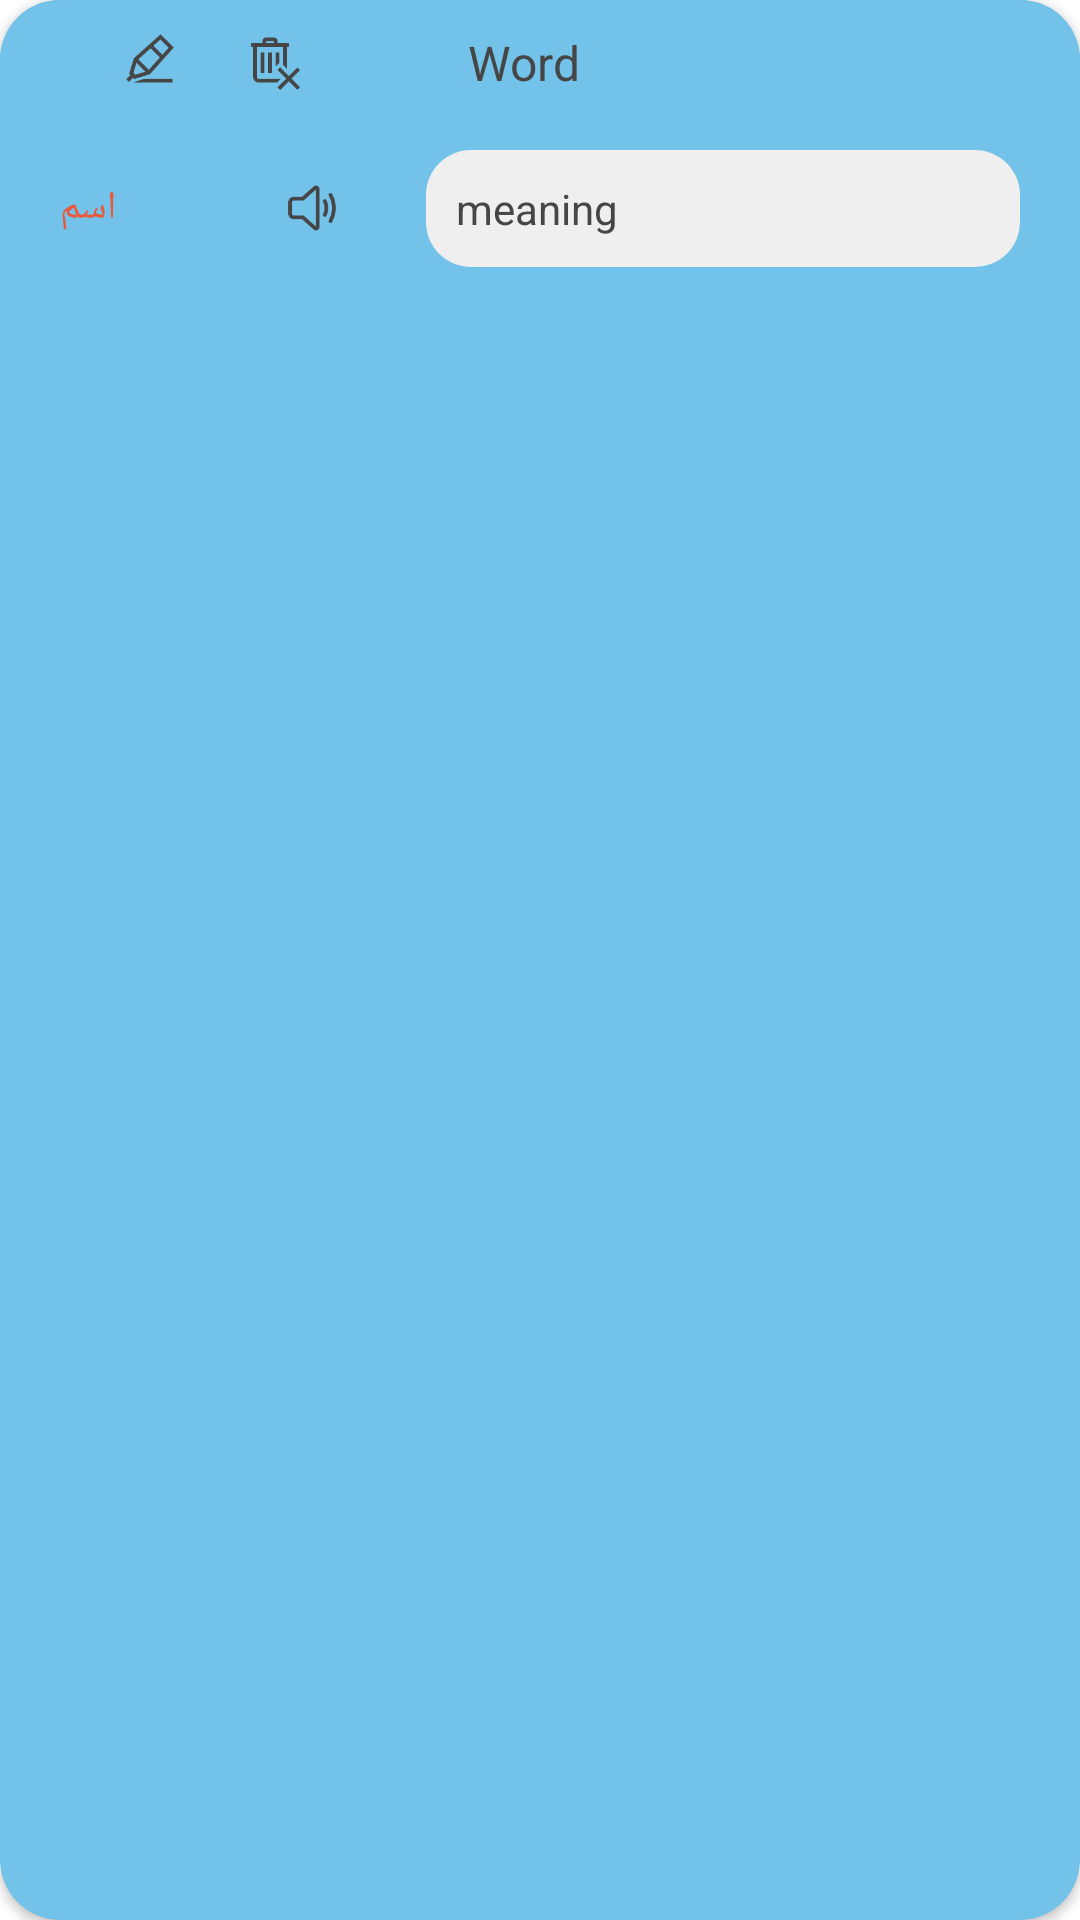

Icon bounding boxes for this 1080*1920 phone screenshot, format (x1, y1, x2, y2):
delete: (251, 37, 300, 90)
rename: (126, 34, 174, 83)
speaker: (288, 185, 336, 231)
